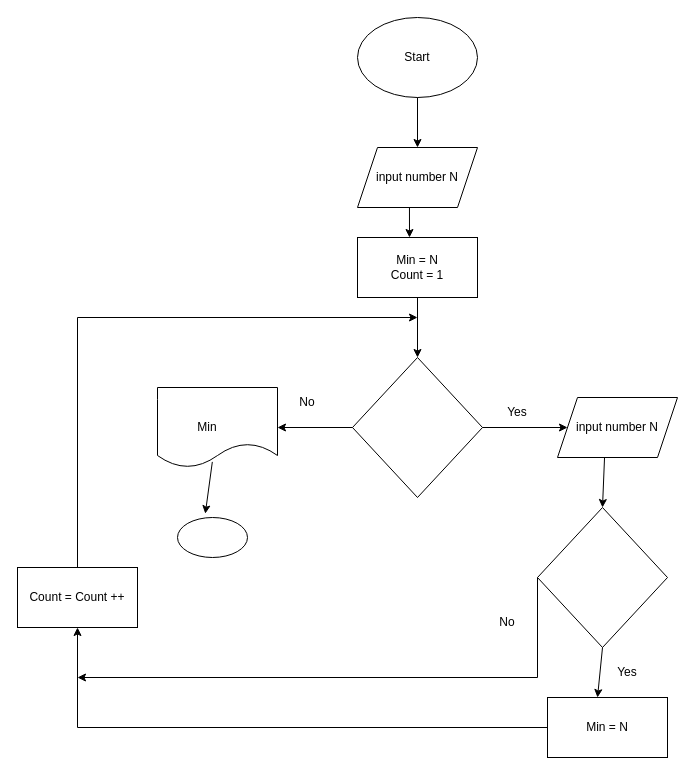
Image size: 695x775. Some labels were removed from this diagram. Each missing label, with the box of its shape:
Count < 10: (352, 356, 482, 498)
END: (176, 516, 248, 558)
N < Min: (536, 506, 668, 648)
